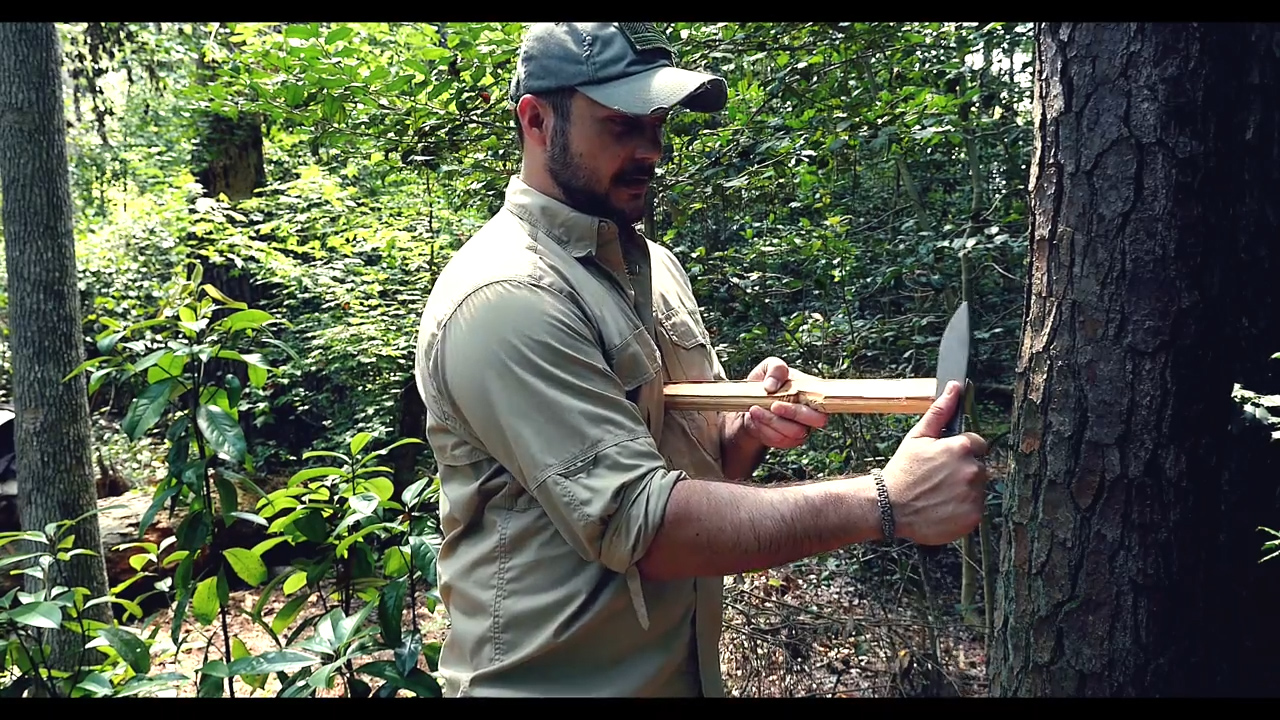knife: (909, 290, 1007, 506)
